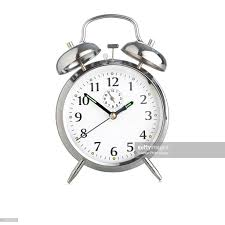alarm_clock: (54, 10, 172, 179)
